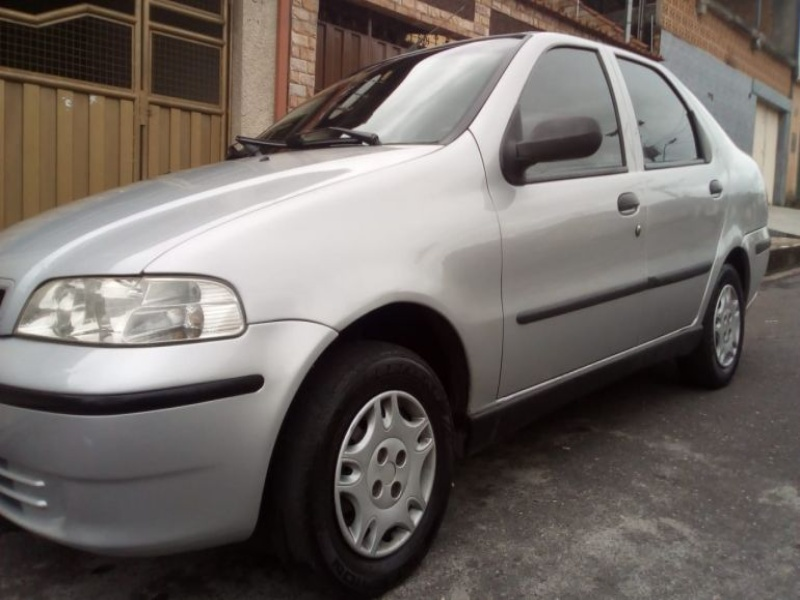Fiat Siena 2001-06: (1, 2, 781, 485)
